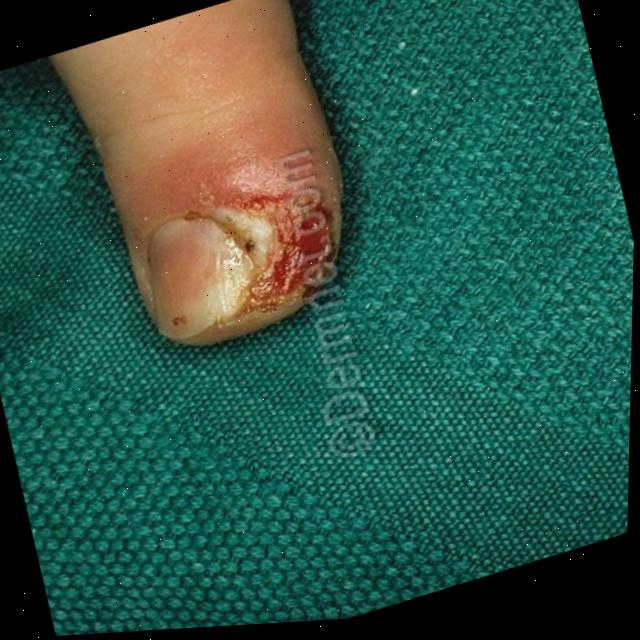Shingles: (217, 157, 348, 320)
